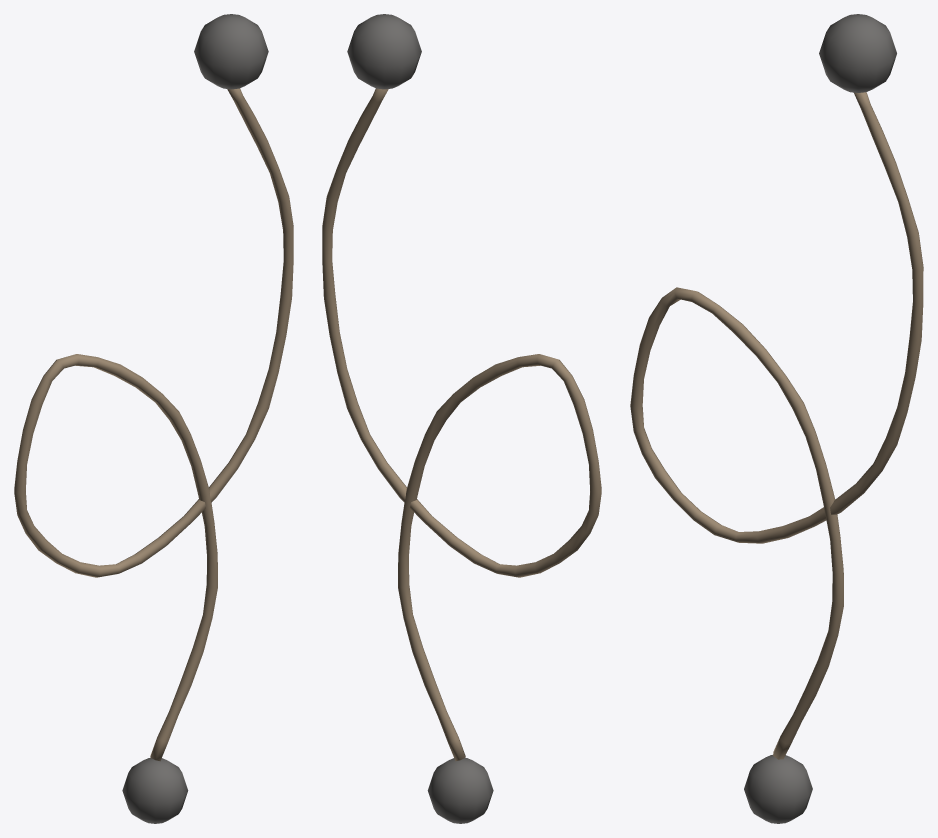
Rendered from meteor-hammer.glb.
The picture shows the model from 3 angles, left to right: view 1: azimuth 30°, elevation 25°; view 2: azimuth 150°, elevation 25°; view 3: azimuth 330°, elevation 25°; orthographic projection. The views are drawn at different scales.
Visible parts, largest first — view 1: meteor-hammer; view 2: meteor-hammer; view 3: meteor-hammer.
Boxes of the visible parts, bbox=[...] form: meteor-hammer: bbox=[14, 14, 293, 823]; meteor-hammer: bbox=[322, 14, 601, 823]; meteor-hammer: bbox=[630, 14, 923, 823].
Bounding box in the file's own units: 0.7352 × 1.97 × 0.17.
